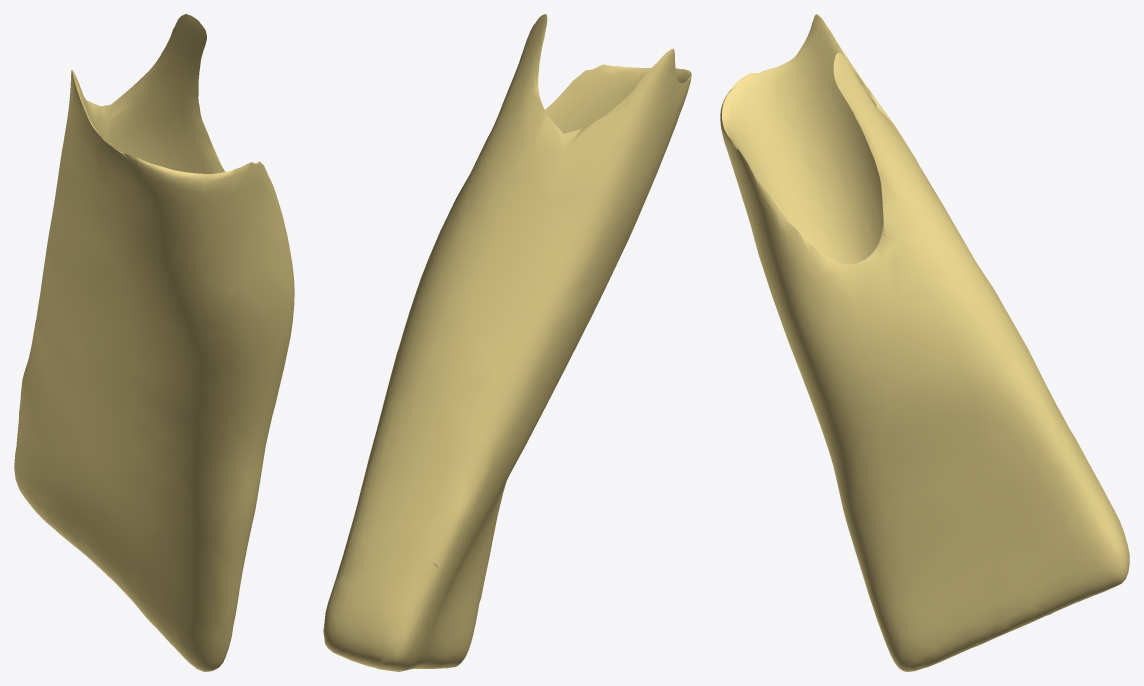
File: fma73847_mm3474m.glb
3 views of the same model, side by side, from view 1: azimuth 30°, elevation 25°; view 2: azimuth 150°, elevation 25°; view 3: azimuth 270°, elevation 25° (orthographic). The views are drawn at different scales.
Parts seen in each view (by area): view 1: FMA73847_MM3474M; view 2: FMA73847_MM3474M; view 3: FMA73847_MM3474M.
Boxes of the visible parts, x1,y1,x2,y2 form: FMA73847_MM3474M: [14, 14, 294, 671]; FMA73847_MM3474M: [323, 14, 691, 671]; FMA73847_MM3474M: [720, 14, 1129, 671].
Size of the model in its own units: 0.00431 by 0.0126 by 0.00789.
